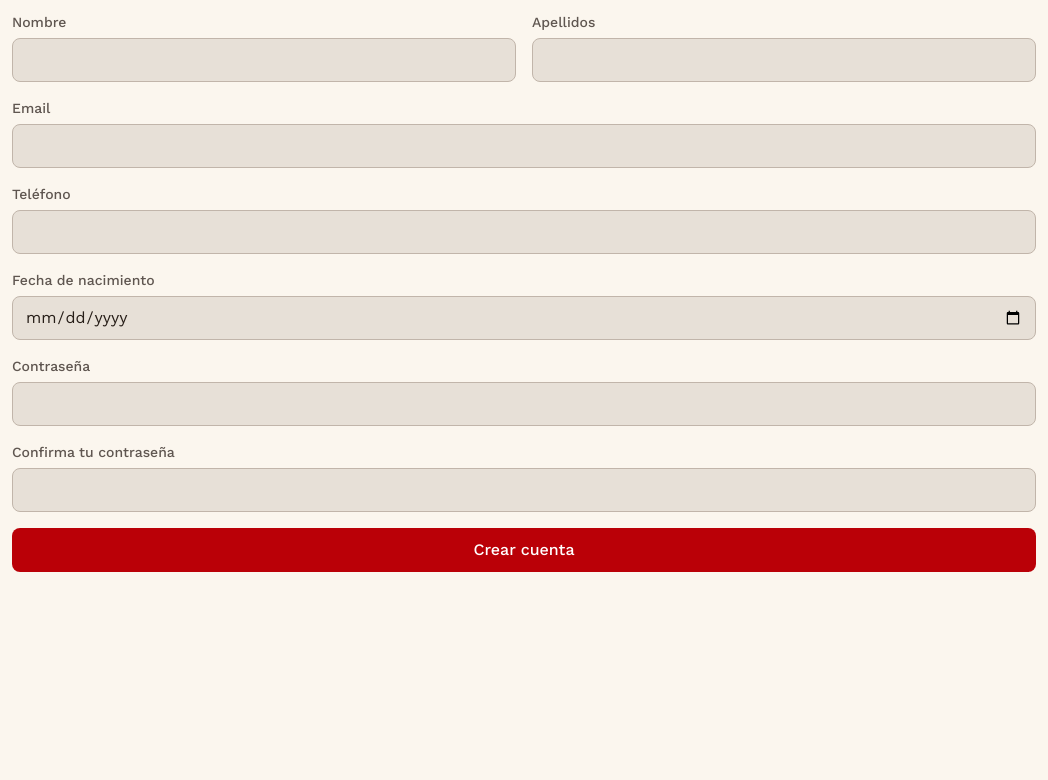
Test: RegisterForm › muestra el error traducido si signUp falla, sin avisar de éxito
The width and height of the screenshot is (1048, 780).
Type "Ana" into the field labelled "Nombre". click: (264, 60)
box: [12,38,516,82]
Type "García López" into the field labelled "Apellidos". click: (784, 60)
box: [532,38,1036,82]
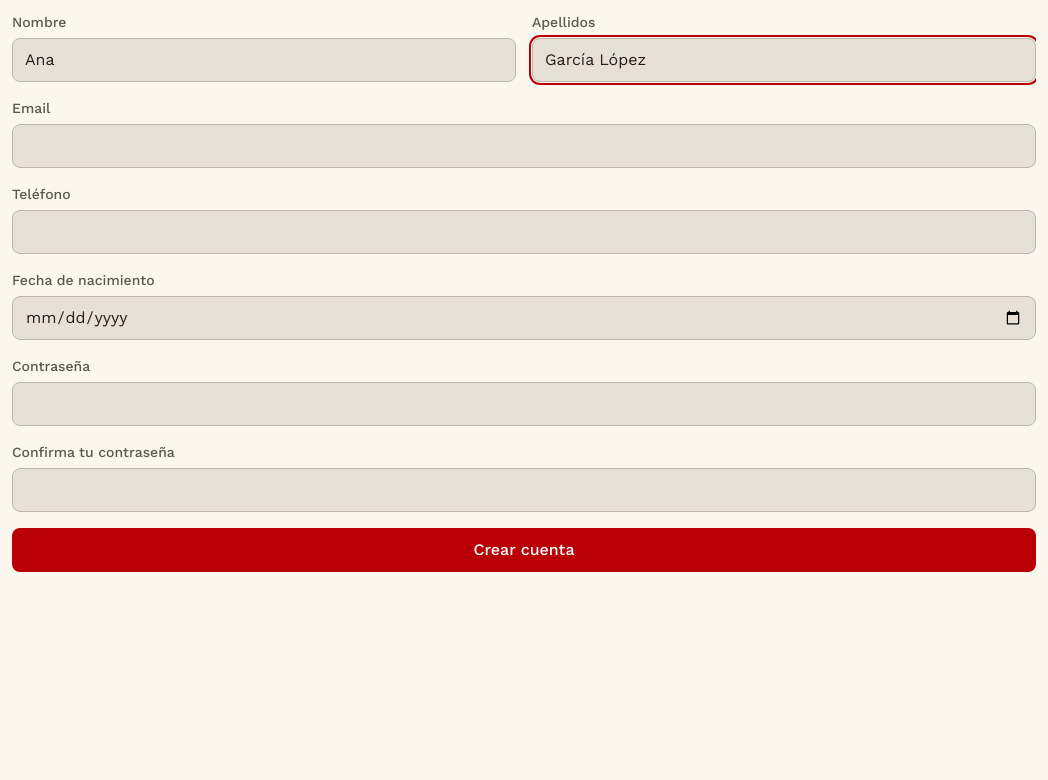
Type "ana@example.com" into the field labelled "Email". click: (524, 146)
box: [12,124,1036,168]
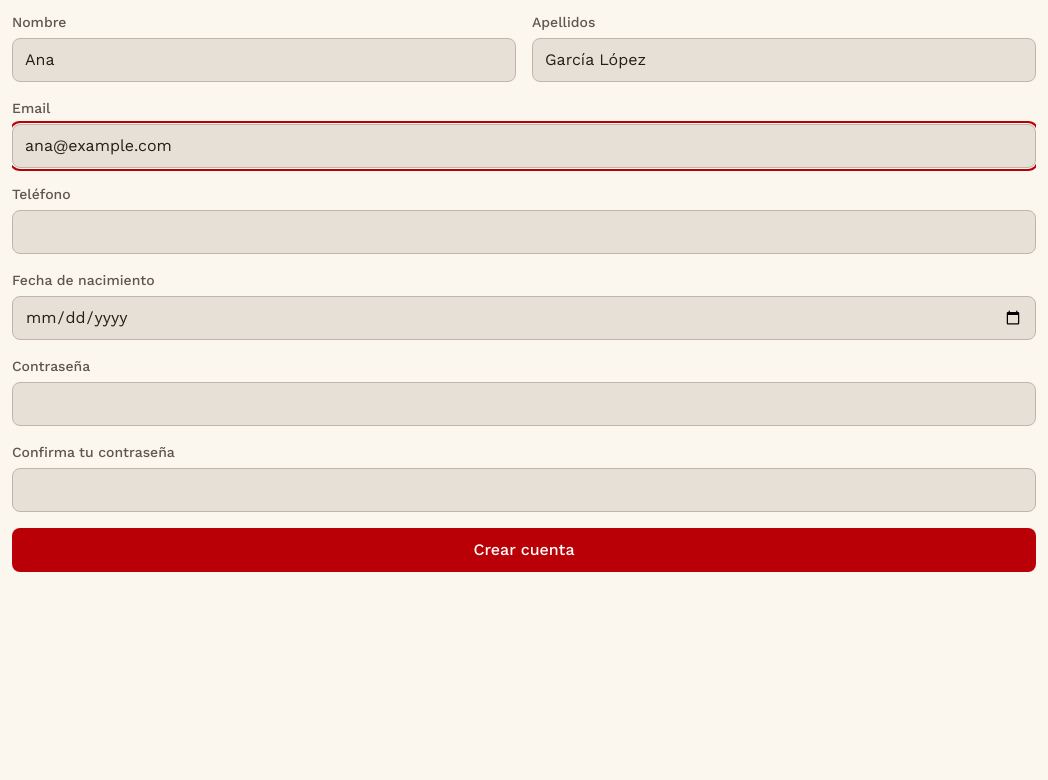
Type "600123456" into the field labelled "Teléfono". click: (524, 232)
box: [12,210,1036,254]
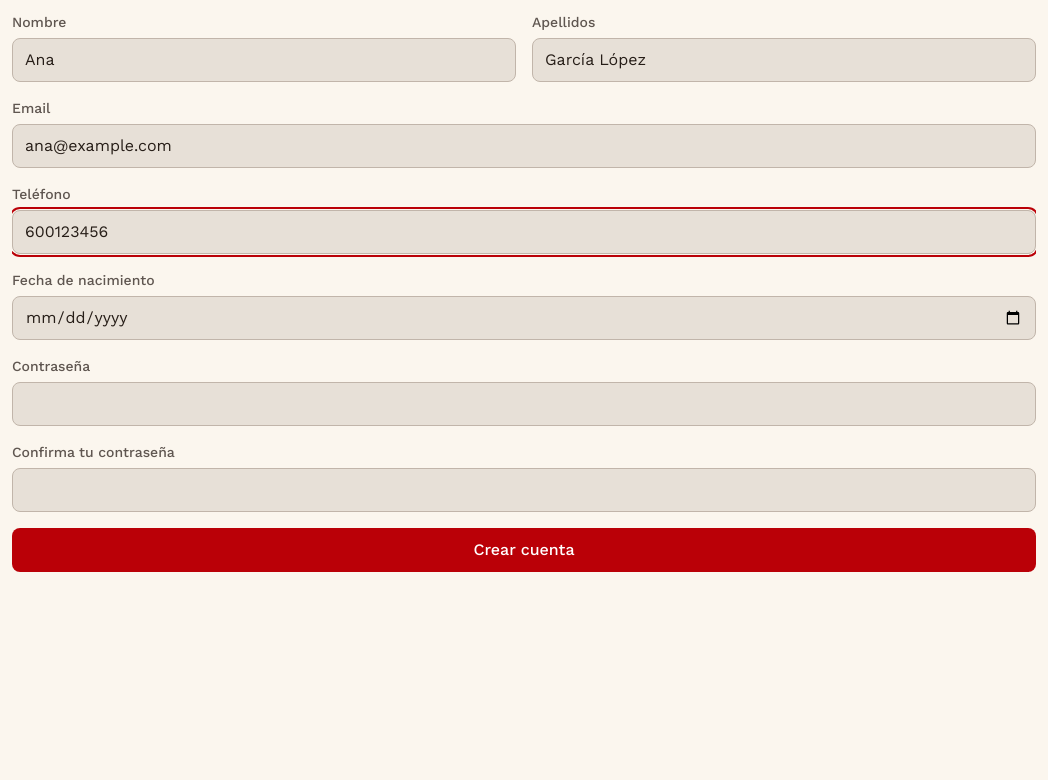
Type "1990-05-15" into the date field labelled "Fecha de nacimiento". click: (524, 318)
box: [12,296,1036,340]
Type "password123" into the password field labelled "Contraseña". click: (524, 404)
box: [12,382,1036,426]
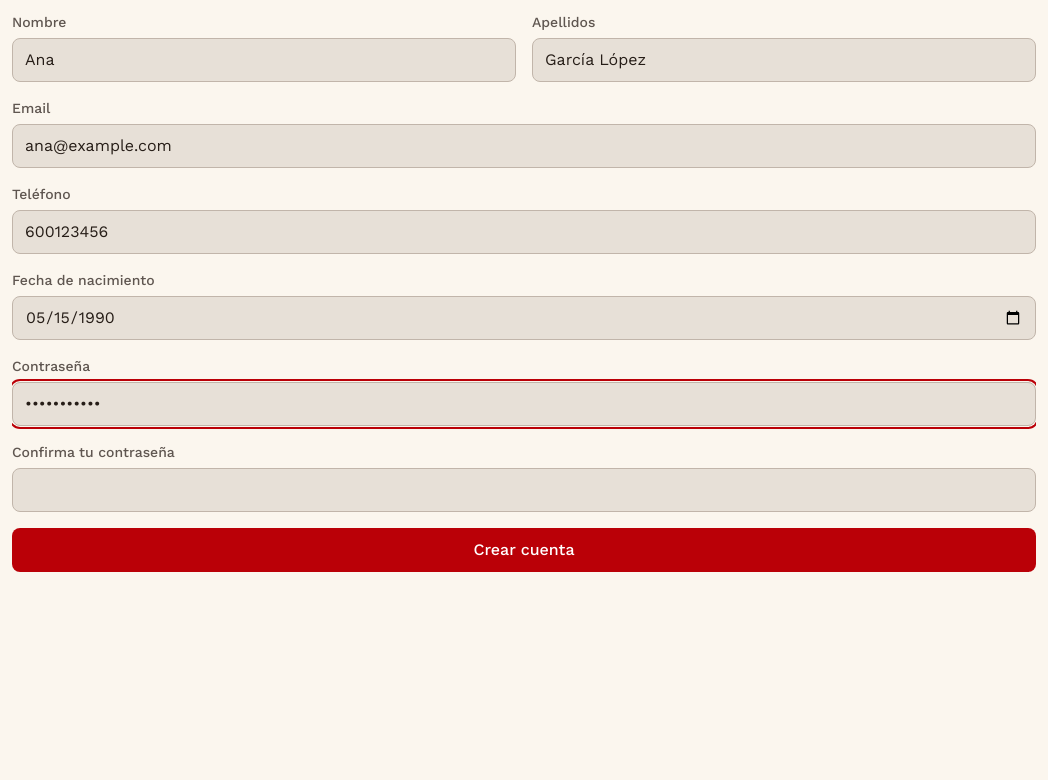
Type "password123" into the password field labelled "Confirma tu contraseña". click: (524, 490)
box: [12,468,1036,512]
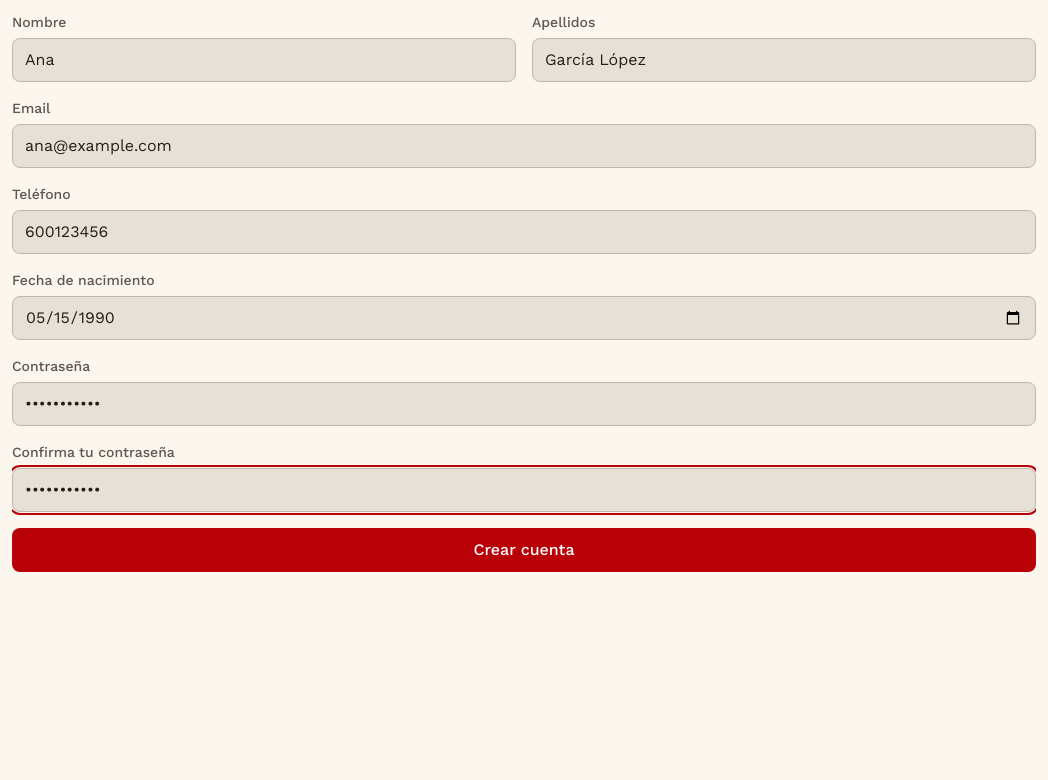
Click the button "Crear cuenta". click: (524, 550)
box: [12,528,1036,572]
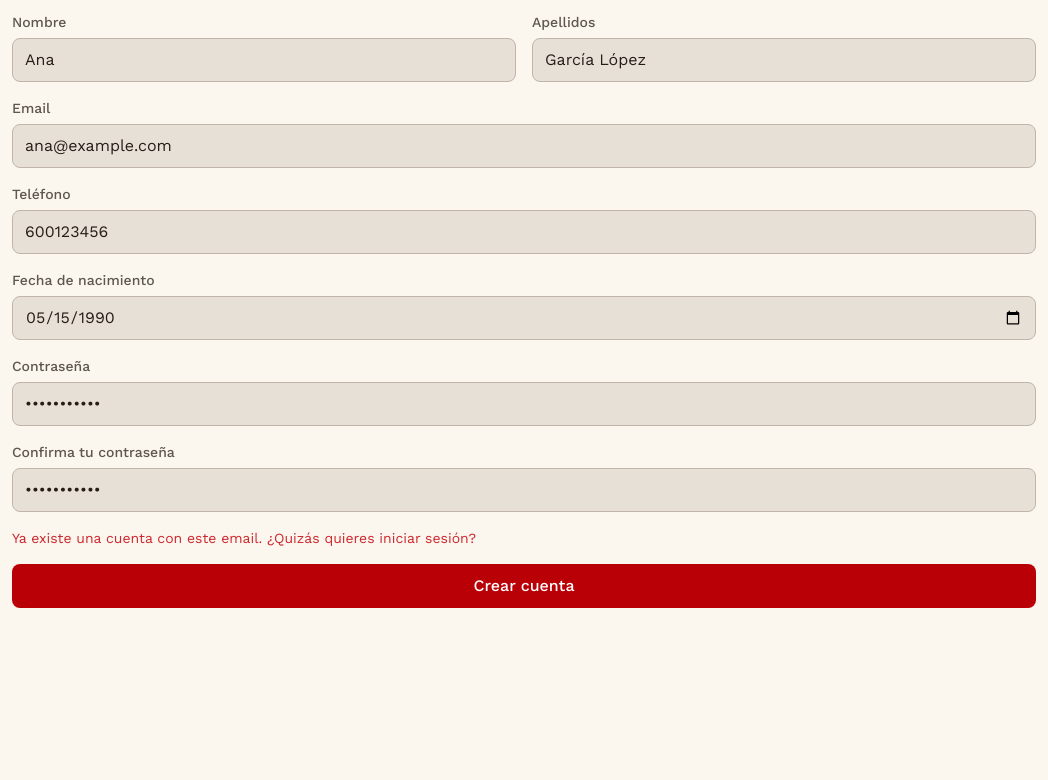
Check: the message reads "Ya existe una cuenta con este email. ¿Quizás quieres iniciar sesión?", box [12,530,476,546]
